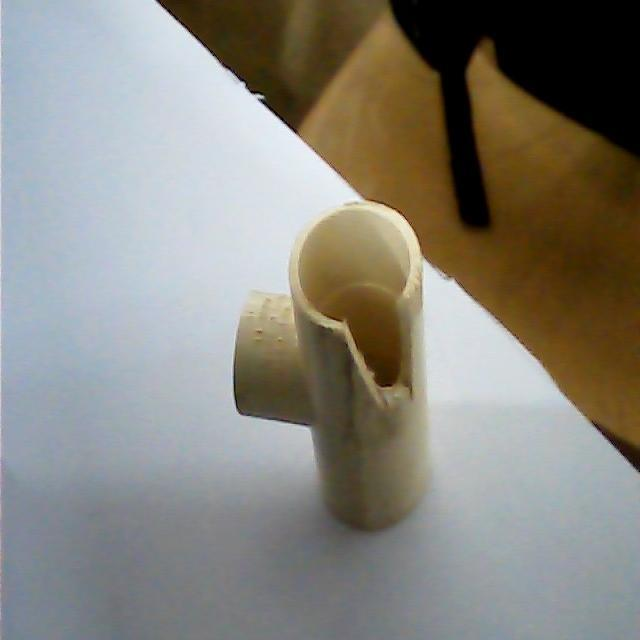Defective: (340, 300, 422, 410)
T Joint: (232, 201, 433, 536)
